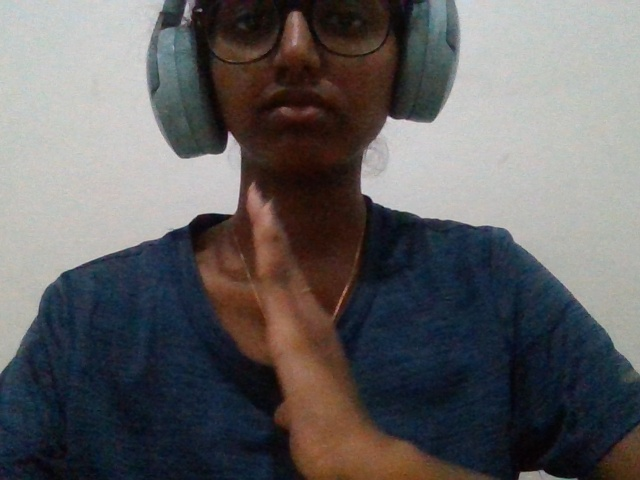Fine: (185, 153, 456, 480)
